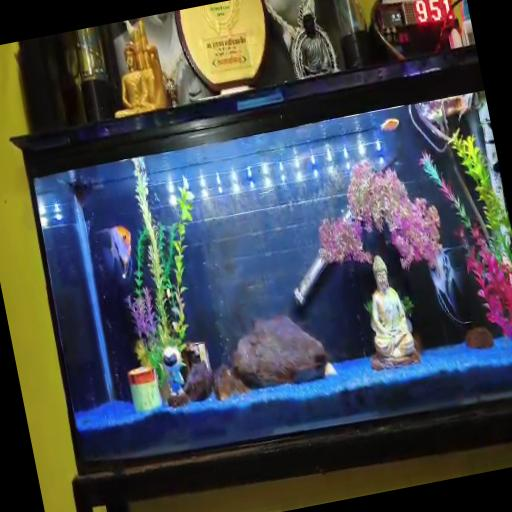Fish: (430, 247, 471, 325), (97, 226, 132, 279), (381, 118, 399, 132)
